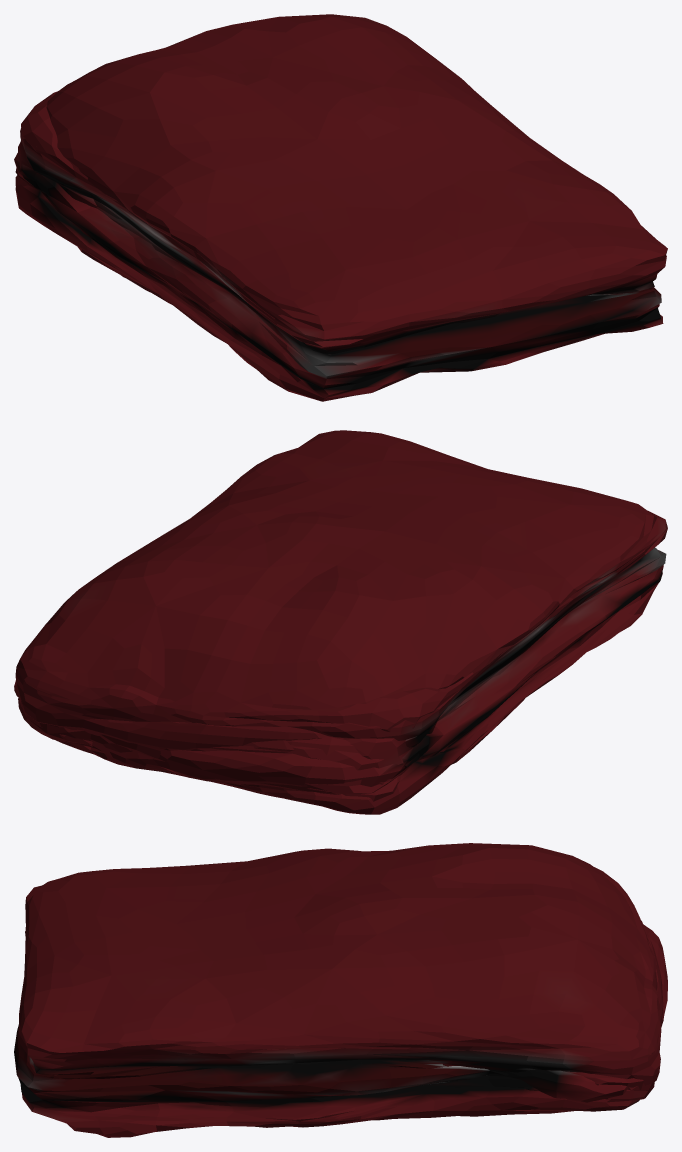
File: blanket.fbx
3 renders of one model, top to bottom at view 1: azimuth 30°, elevation 25°; view 2: azimuth 150°, elevation 25°; view 3: azimuth 270°, elevation 25°, orthographic. The views are drawn at different scales.
Visible parts, largest first — view 1: Quad Sphere; view 2: Quad Sphere; view 3: Quad Sphere.
Part boxes in pixels (box(x1,y1,x2,y2)): Quad Sphere: box(14, 14, 667, 401); Quad Sphere: box(14, 430, 667, 814); Quad Sphere: box(14, 843, 667, 1137).
Bounding box in the file's own units: 1.43 × 0.573 × 2.12.
